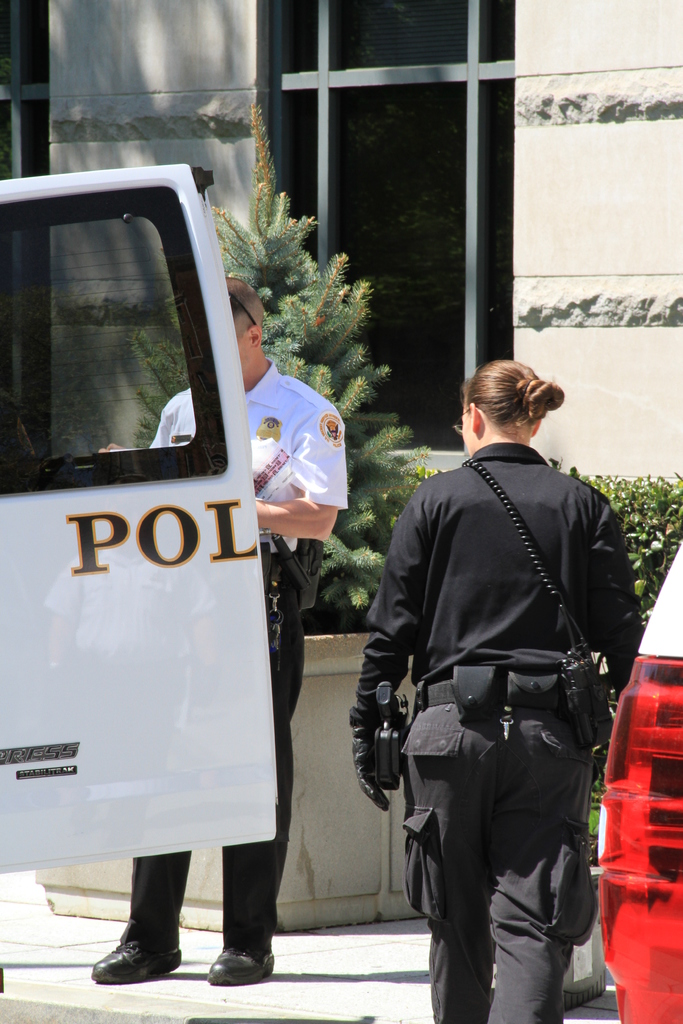cars: (600, 540, 682, 1022)
